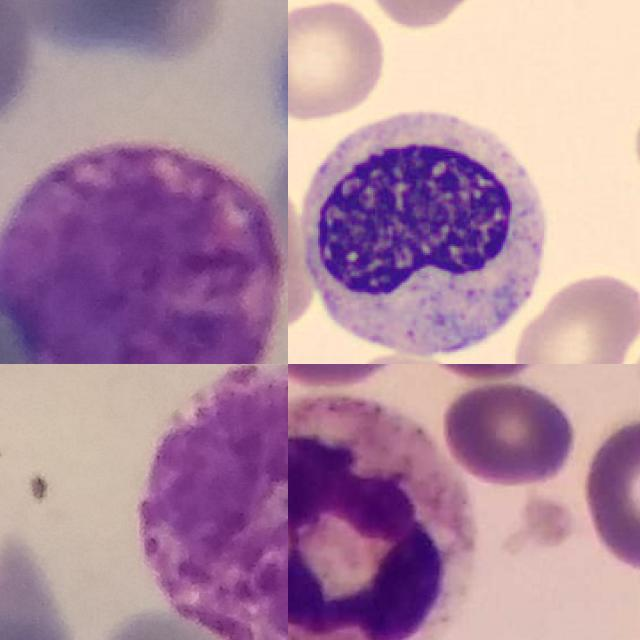Basophil: (0, 143, 282, 364), (145, 364, 288, 640)
Monocyte: (288, 94, 560, 364)
Neutrophil: (288, 395, 468, 640)
RBC: (508, 269, 640, 364), (288, 0, 389, 124), (366, 0, 497, 31)
